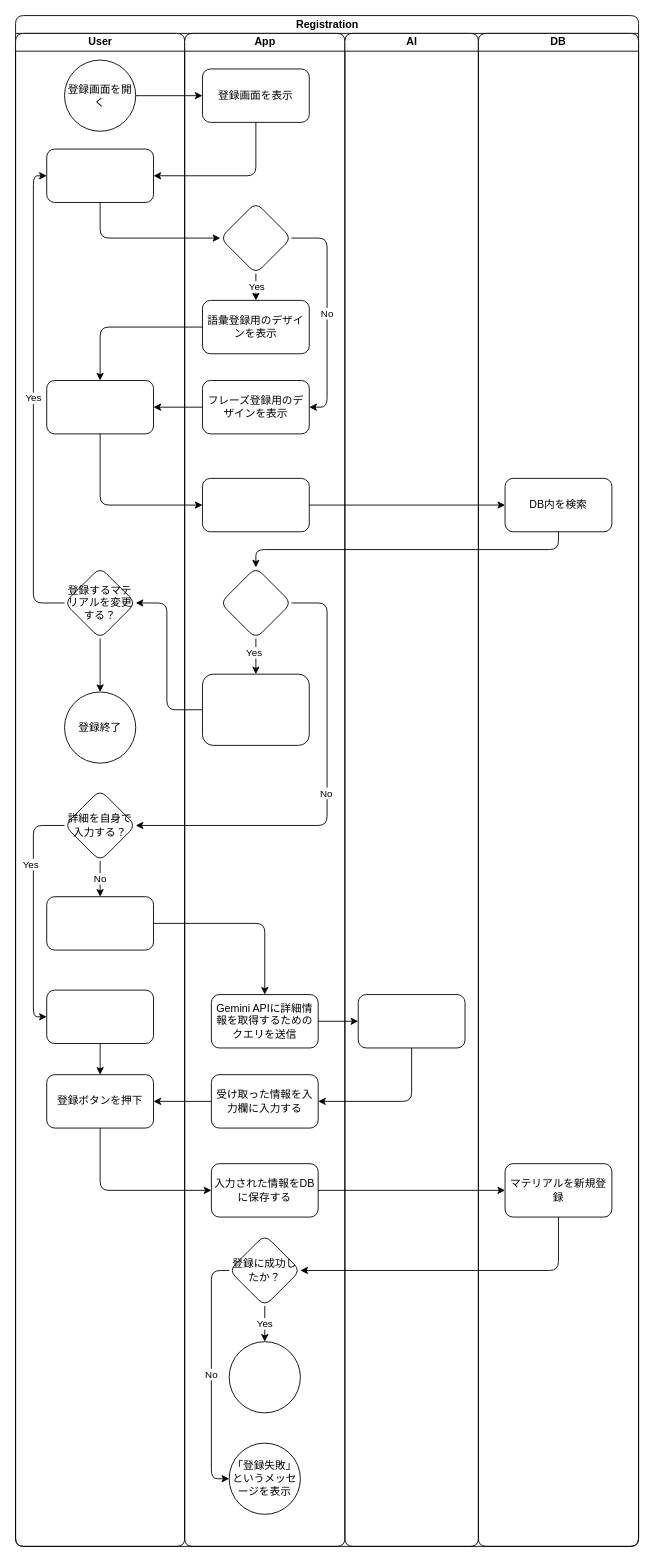
The diagram is 654 pixels wide and 1562 high, and some of its shapes have lost their labels. Here are the shapes that lost their labels. From the top down, the centre of each, then its label:
[100,175]: 登録したいマテリアルの種類を選択
[255,238]: 「語彙」が選択された
[100,407]: 登録したいマテリアルを入力
[255,504]: 登録するマテリアうがDBに存在しているか判断
[255,602]: マテリアルがDB内に存在する
[255,709]: ユーザーが詳細を入力できないようにページデザインを変更し編集画面への遷移ボタンを表示
[100,923]: 自動取得ボタンを押下
[100,1016]: 詳細情報を入力
[411,1021]: クエリを受け取りJSON形式で詳細情報を出力する
[264,1377]: 「登録完了」というメッセージを表示
